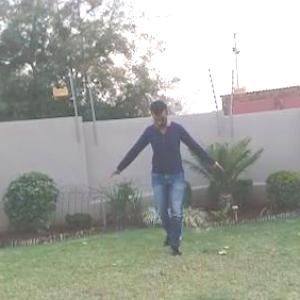land: (101, 103, 221, 262)
